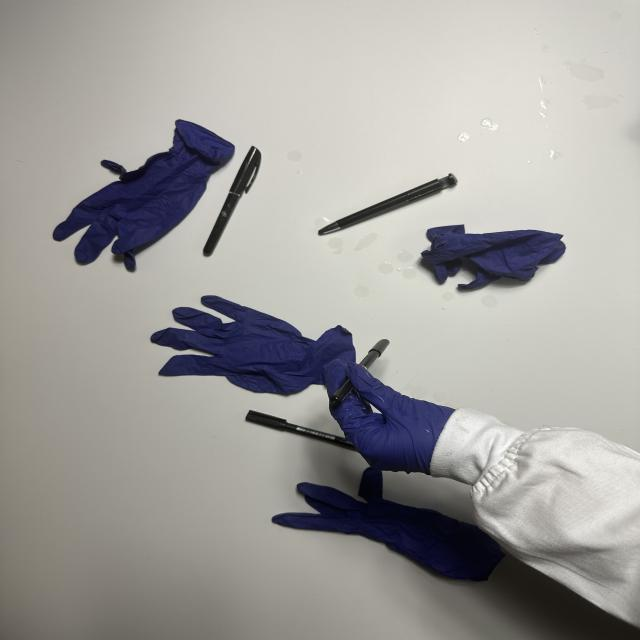gloves_contaminated: (325, 361, 454, 473)
